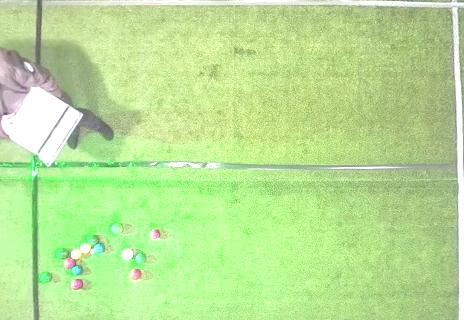blue: (71, 265, 83, 276), (94, 243, 105, 254)
green: (56, 248, 69, 260), (111, 223, 124, 234), (87, 236, 99, 247), (40, 272, 52, 283), (135, 253, 146, 263)
red: (71, 279, 83, 291), (122, 248, 133, 261), (130, 269, 141, 281), (64, 258, 76, 269), (150, 229, 160, 239)
vline: (1, 159, 40, 319), (450, 0, 463, 320), (1, 0, 42, 66)
white: (91, 249, 95, 254)
yellow: (71, 249, 82, 260), (80, 243, 91, 253)
